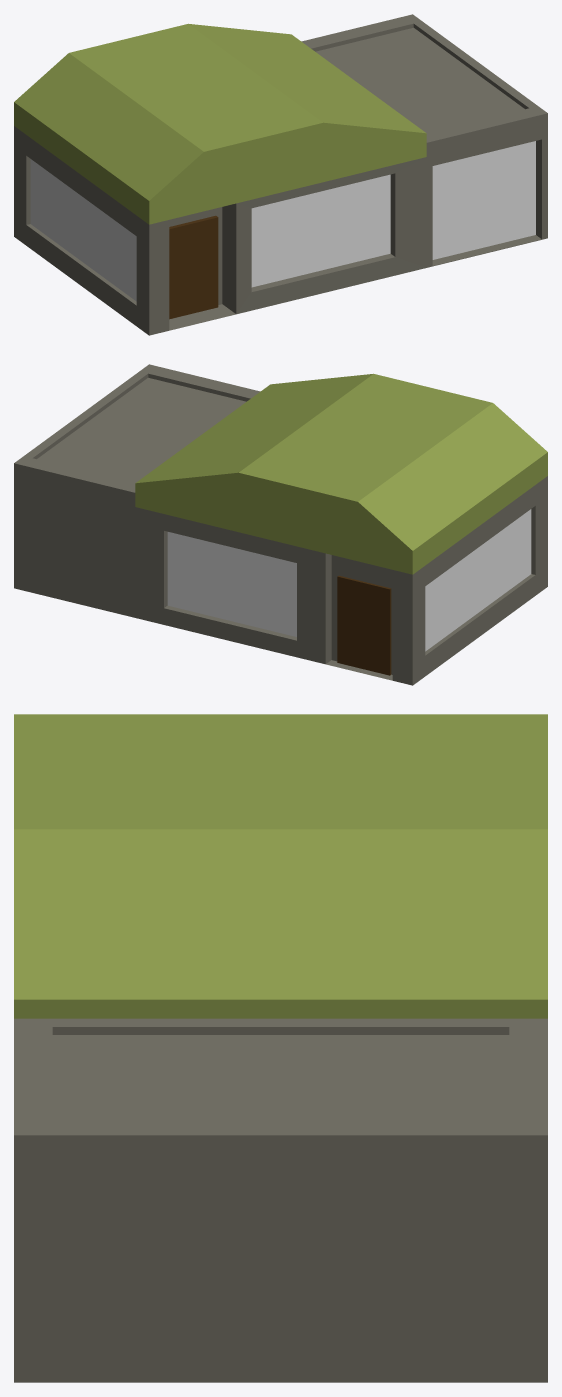
File: house 2.fbx
3 views of the same model, one above another, from view 1: azimuth 30°, elevation 25°; view 2: azimuth 150°, elevation 25°; view 3: azimuth 270°, elevation 25° (orthographic). The views are drawn at different scales.
Visible parts, largest first — view 1: Cube; view 2: Cube; view 3: Cube.
Part boxes in pixels (bbox=[...]): Cube: bbox=[14, 14, 547, 335]; Cube: bbox=[14, 364, 547, 685]; Cube: bbox=[14, 714, 547, 1382].
Size of the model in its own units: 620 by 254 by 364.
